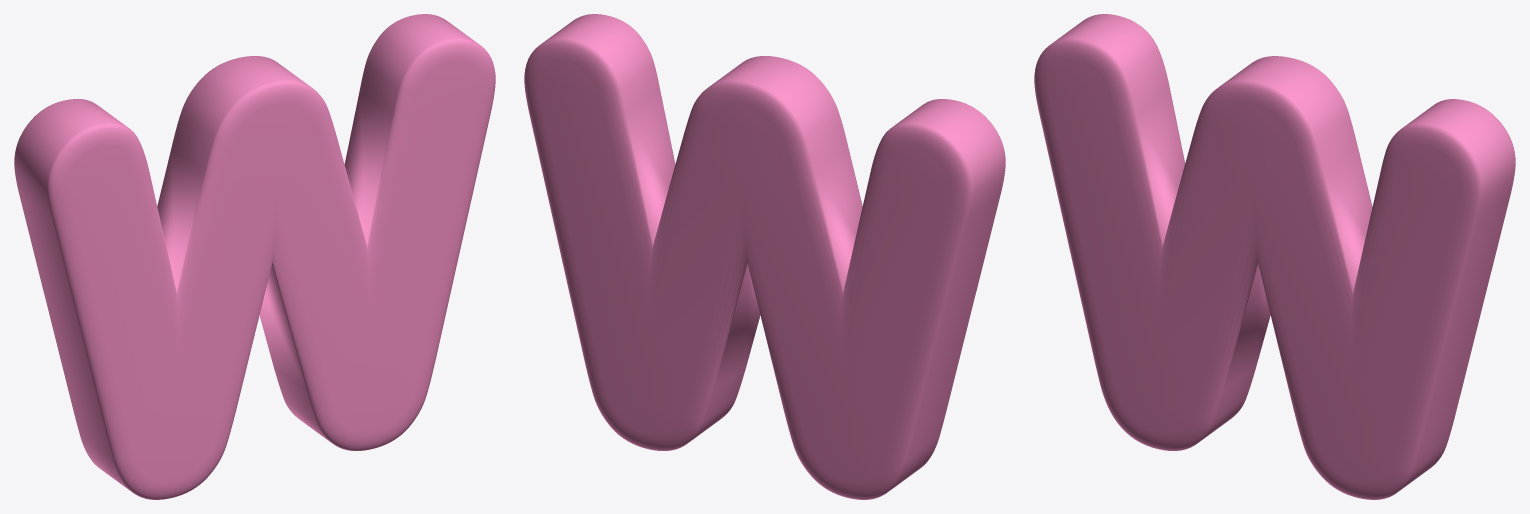
File: RA_Letter_W.fbx
3 renders of one model, left to right at view 1: azimuth 30°, elevation 25°; view 2: azimuth 150°, elevation 25°; view 3: azimuth 330°, elevation 25°, orthographic.
Parts seen in each view (by area): view 1: RA_Letter_W; view 2: RA_Letter_W; view 3: RA_Letter_W.
Boxes of the visible parts, x1,y1,x2,y2 form: RA_Letter_W: (14, 14, 495, 499); RA_Letter_W: (524, 14, 1005, 499); RA_Letter_W: (1034, 14, 1515, 499).
Size of the model in its own units: 180 by 150 by 28.
